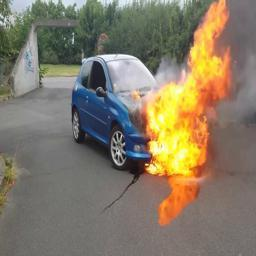fire: (131, 0, 235, 176)
